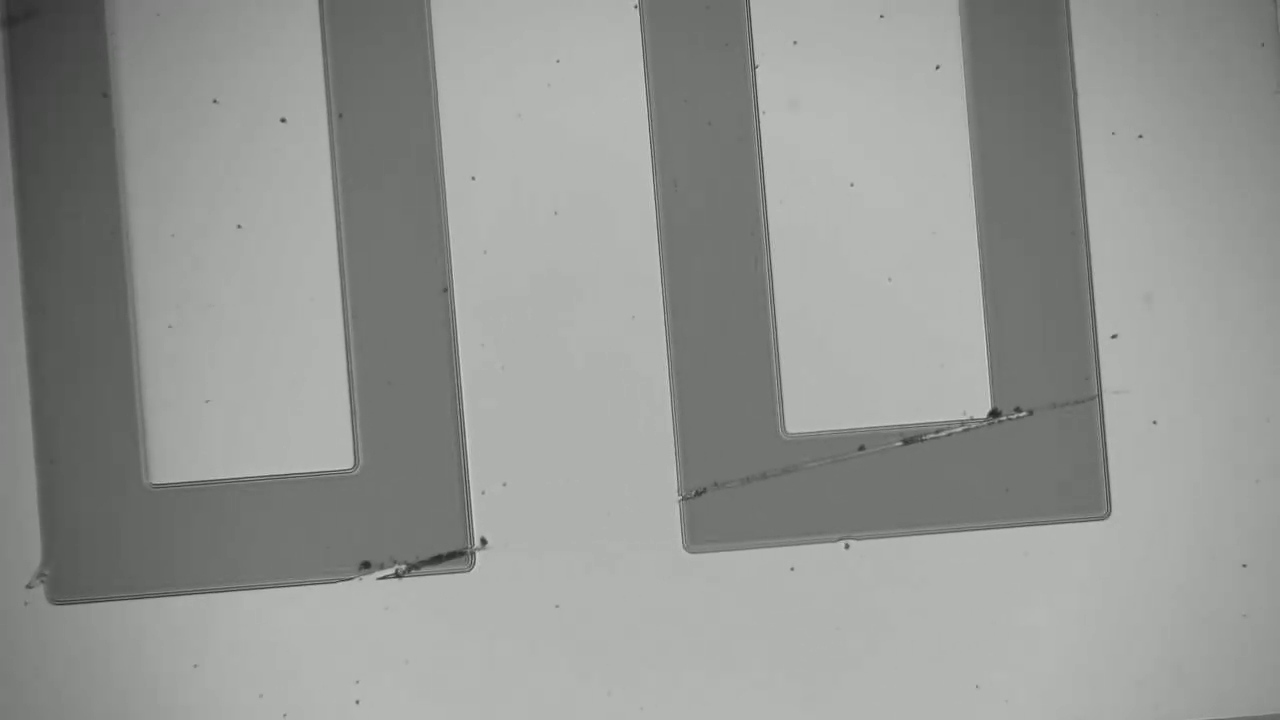scratch: (683, 394, 1094, 500), (360, 541, 471, 579)
